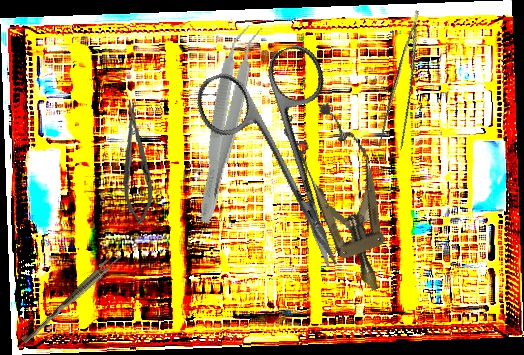Iris Scissors: (188, 39, 389, 291)
Needle Holder: (117, 101, 156, 226)
Speculum: (277, 96, 410, 302)
Tissue Forceps: (192, 21, 264, 227), (21, 248, 123, 348), (373, 10, 442, 157)
